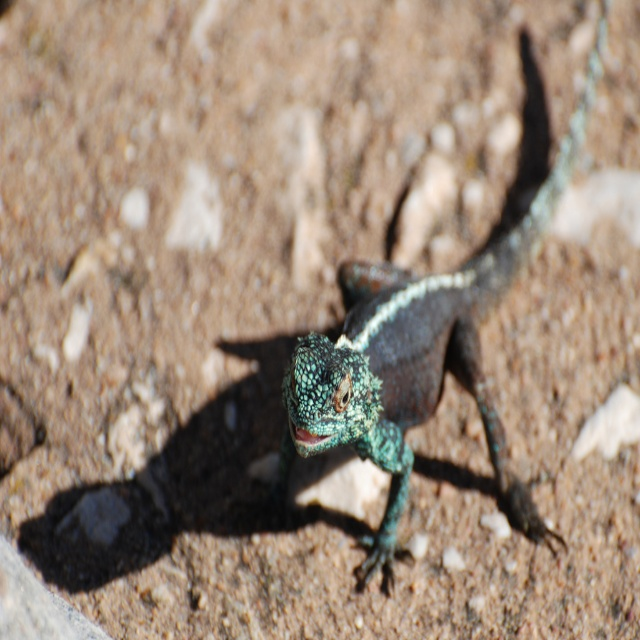Lizard: (275, 101, 574, 636)
